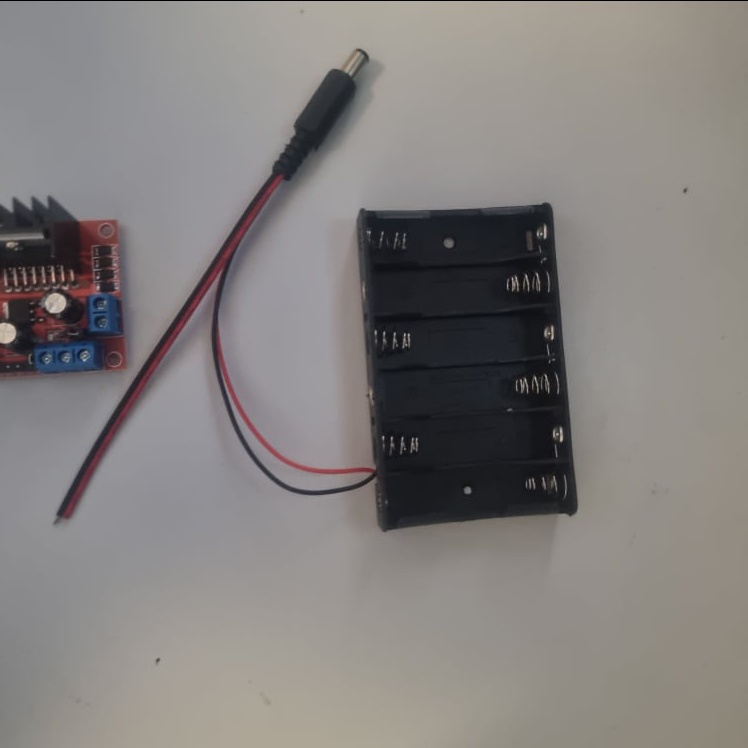BATTERY BOX: (359, 202, 579, 533)
MOTOR: (0, 193, 131, 375)
